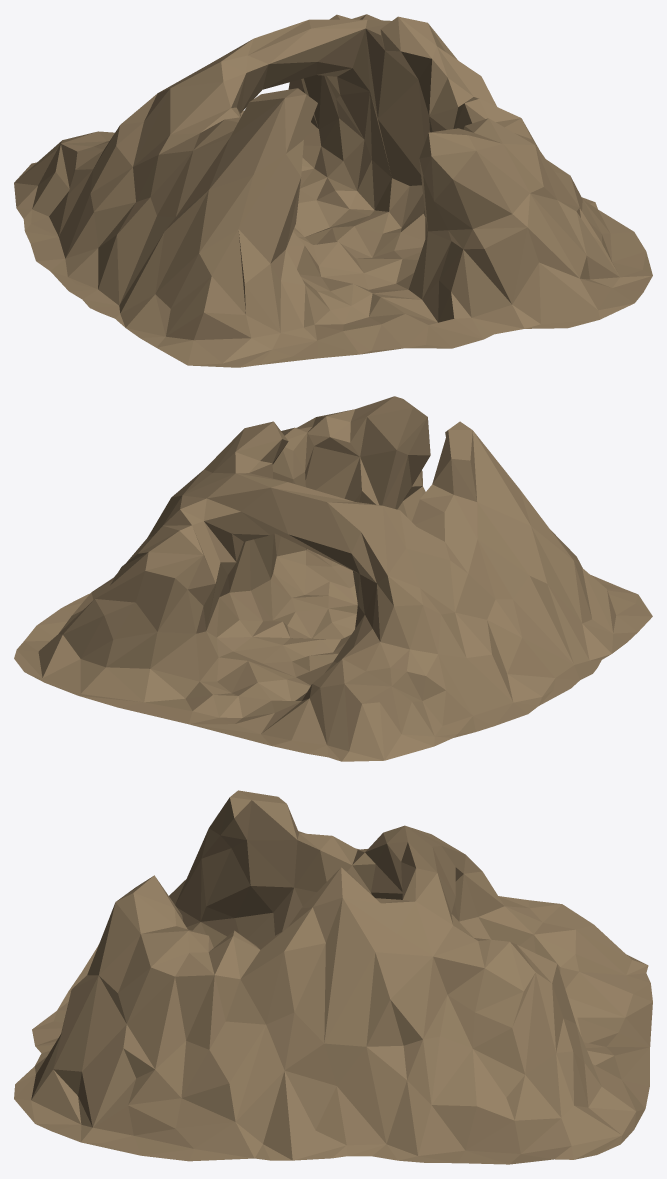
File: SmallTerrain04.fbx
3 renders of one model, top to bottom at view 1: azimuth 30°, elevation 25°; view 2: azimuth 150°, elevation 25°; view 3: azimuth 270°, elevation 25°, orthographic. The views are drawn at different scales.
Parts seen in each view (by area): view 1: SmallTerrain04; view 2: SmallTerrain04; view 3: SmallTerrain04.
Boxes of the visible parts, bbox=[...] form: SmallTerrain04: bbox=[14, 14, 652, 367]; SmallTerrain04: bbox=[14, 396, 652, 761]; SmallTerrain04: bbox=[14, 790, 652, 1164].
Size of the model in its own units: 41.44 by 16.8 by 44.21.
